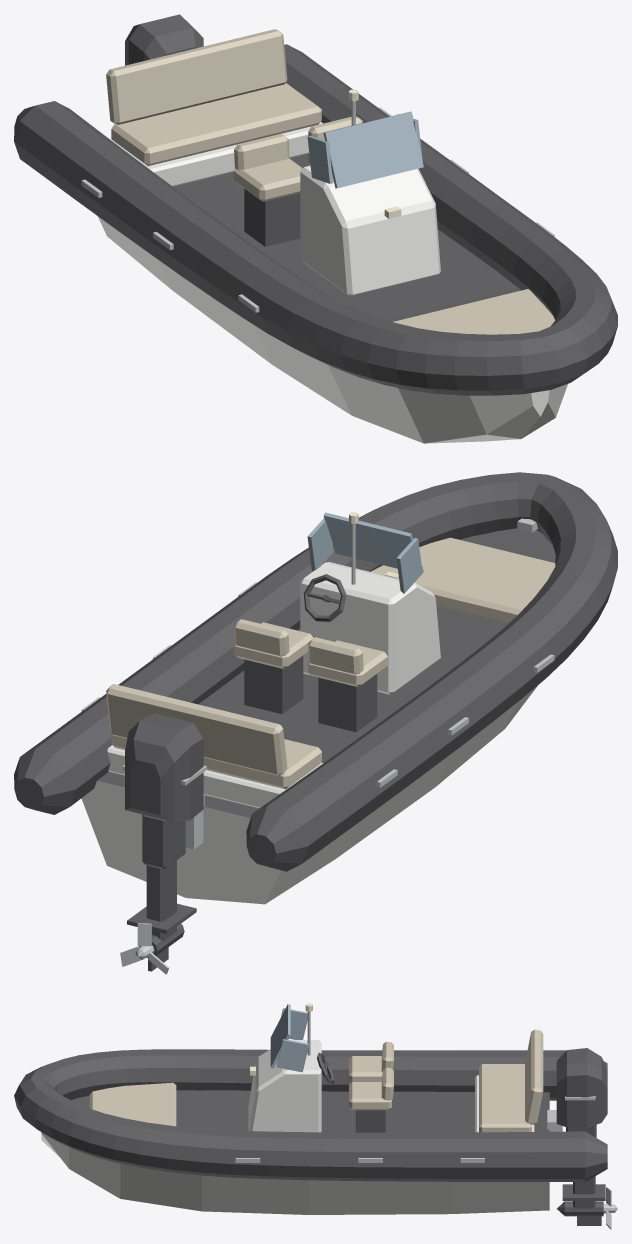
File: Boat.fbx
3 views of the same model, one above another, from view 1: azimuth 30°, elevation 25°; view 2: azimuth 150°, elevation 25°; view 3: azimuth 270°, elevation 25° (orthographic). The views are drawn at different scales.
Visible parts, largest first — view 1: Body; view 2: Body, Prop; view 3: Body.
Boxes of the visible parts, <box> form: Body: <box>14,14,617,443</box>; Body: <box>14,472,617,971</box>; Prop: <box>120,923,169,974</box>; Body: <box>14,1003,607,1225</box>.
Size of the model in its own units: 2.42 by 2.38 by 5.91.
